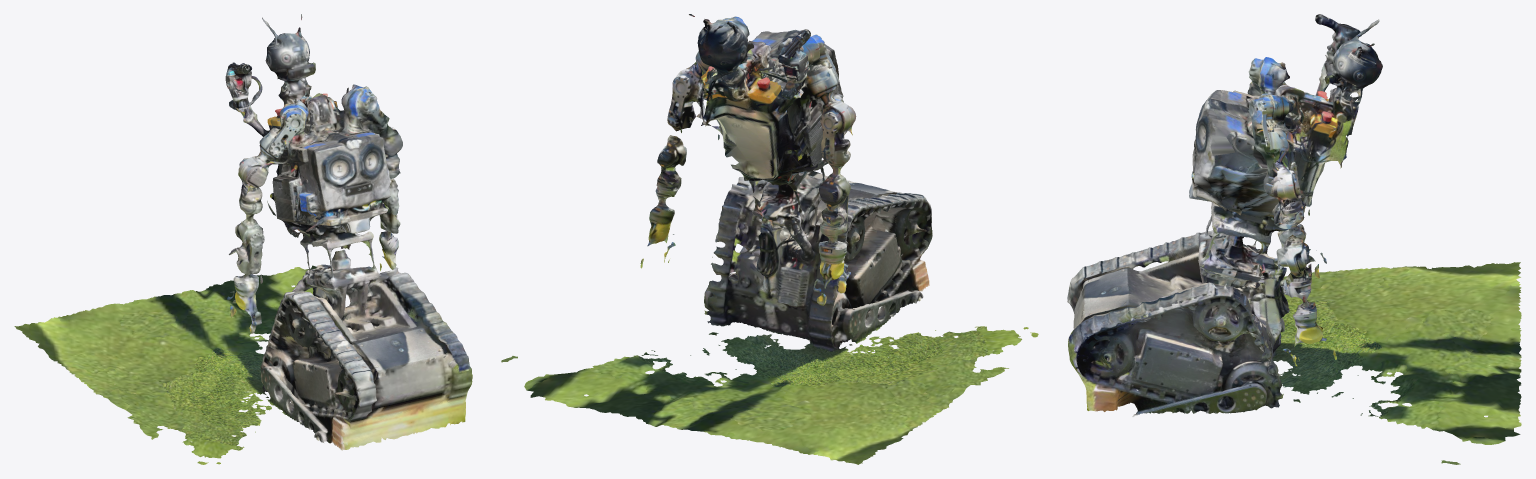
Rendered from rob-flipper-lifted-wood-head-back.glb.
The picture shows the model from 3 angles, left to right: view 1: azimuth 30°, elevation 25°; view 2: azimuth 150°, elevation 25°; view 3: azimuth 270°, elevation 25°; orthographic projection. The views are drawn at different scales.
Parts seen in each view (by area): view 1: ROB flipper lifted wood head back; view 2: ROB flipper lifted wood head back; view 3: ROB flipper lifted wood head back.
Part boxes in pixels (x1=…): ROB flipper lifted wood head back: x1=14, y1=14, x2=472, y2=464; ROB flipper lifted wood head back: x1=501, y1=14, x2=1038, y2=464; ROB flipper lifted wood head back: x1=1067, y1=14, x2=1521, y2=464.
Bounding box in the file's own units: 1.27 × 1.11 × 1.29.
Materials: 1 (1 with a texture image).
